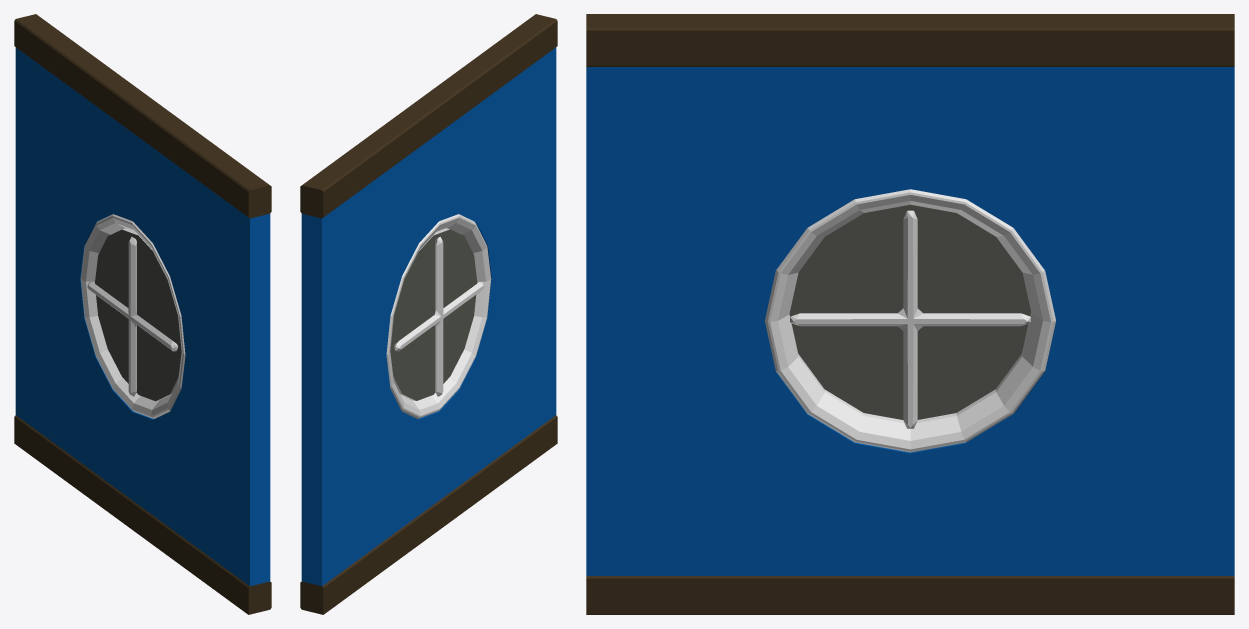
The model's file is Window_Tile.fbx.
The picture shows the model from 3 angles, left to right: view 1: azimuth 30°, elevation 25°; view 2: azimuth 150°, elevation 25°; view 3: azimuth 270°, elevation 25°; orthographic projection. The views are drawn at different scales.
Visible parts, largest first — view 1: Window; view 2: Window; view 3: Window.
Part boxes in pixels (bbox=[...]): Window: bbox=[14, 14, 271, 614]; Window: bbox=[300, 14, 557, 614]; Window: bbox=[586, 14, 1234, 614].
Bounding box in the file's own units: 36.65 × 600 × 600.
